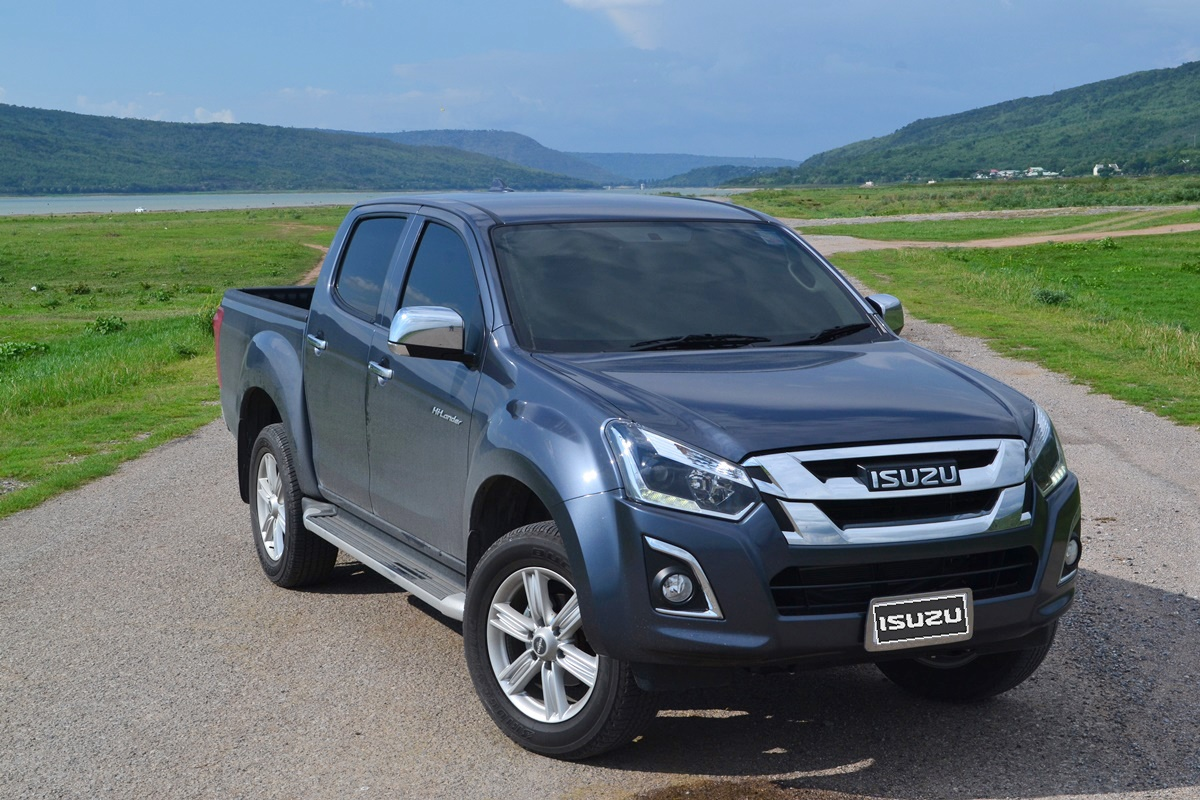pickup: (214, 191, 1084, 767)
